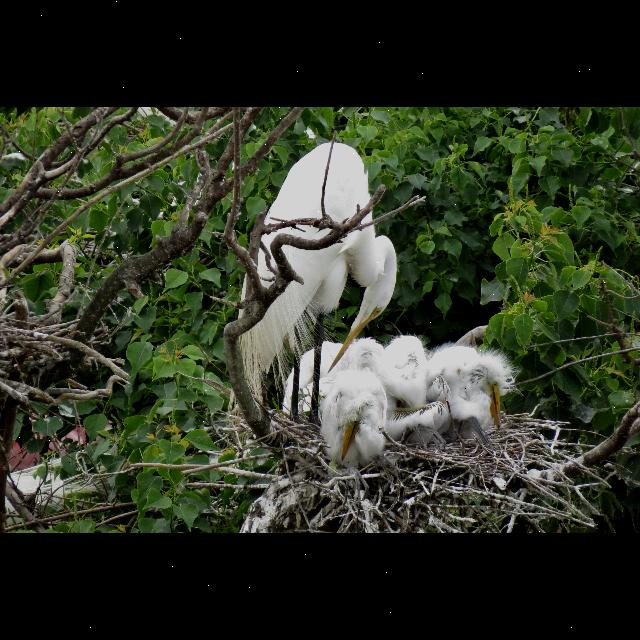egret: (233, 142, 397, 372)
